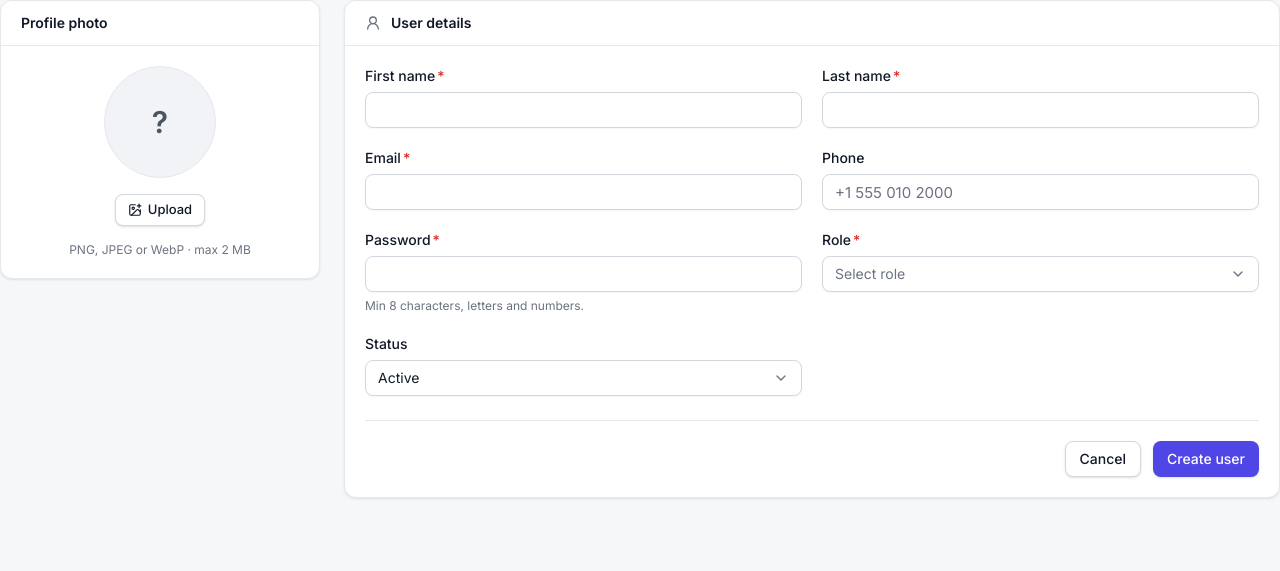
it: UserForm › shows inline validation errors for required fields
Click the button "Create user" at point(1206, 459), box [1153, 441, 1259, 477]
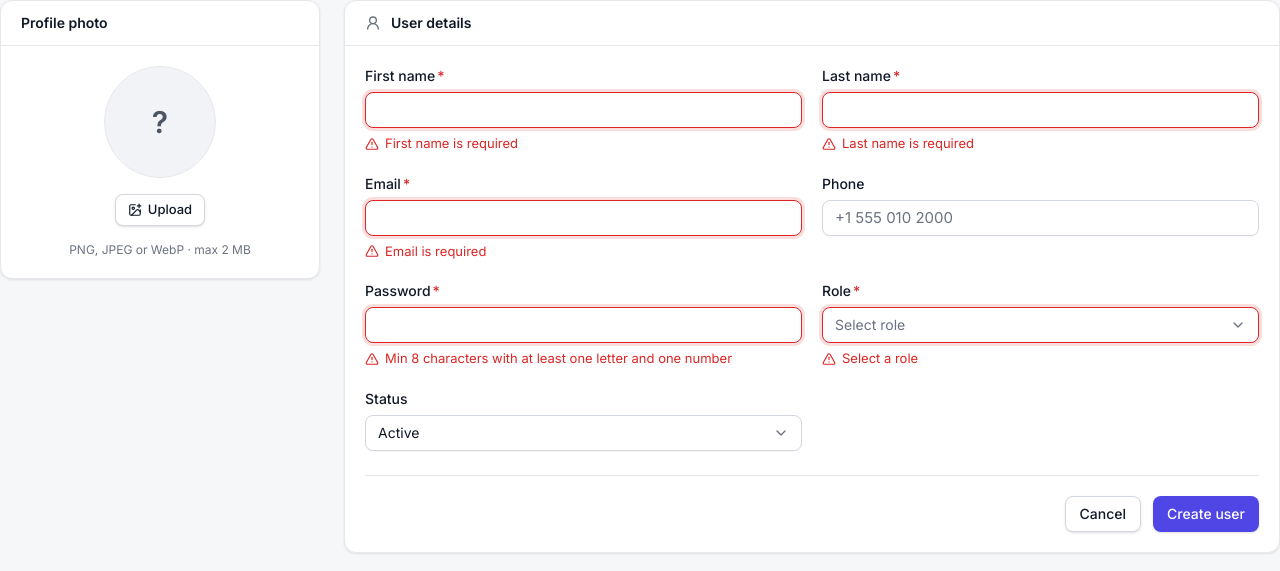
Expected: the text "First name is required" is shown, [365, 135, 518, 151]
Expected: the text "Last name is required" is shown, [822, 135, 974, 151]
Expected: the text "Email is required" is shown, [365, 242, 486, 258]
